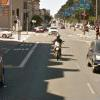Motorcycle: (49, 33, 67, 64)
